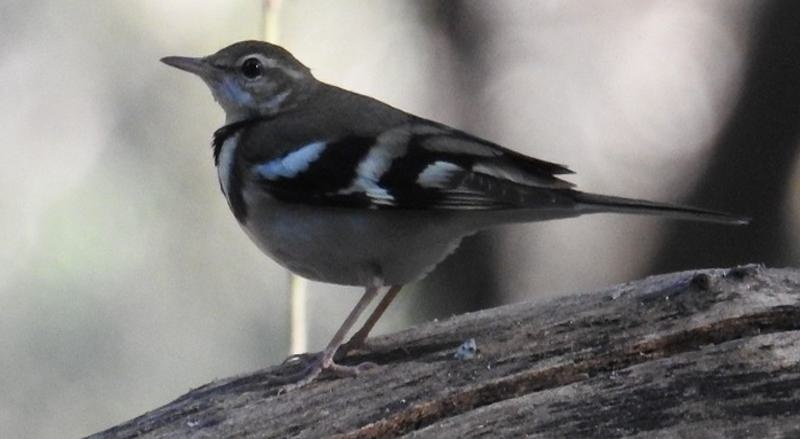wagtail: (163, 25, 630, 330)
